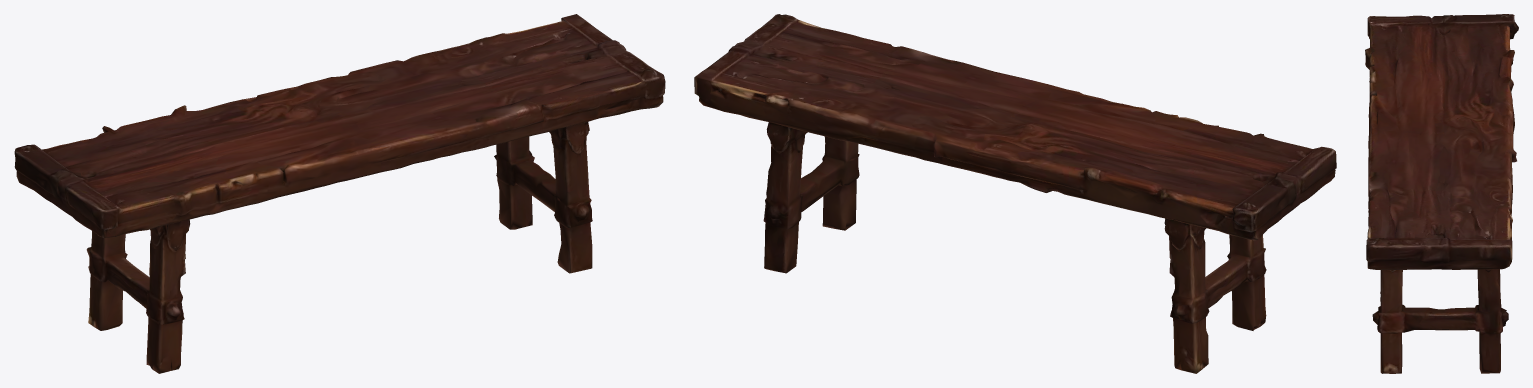
Rendered from hokora-kyodai.glb.
3 renders of one model, left to right at view 1: azimuth 30°, elevation 25°; view 2: azimuth 150°, elevation 25°; view 3: azimuth 270°, elevation 25°, orthographic. The views are drawn at different scales.
Visible parts, largest first — view 1: tripo_node_06261b38-5592-44d0-81bf-fc2c917a9c1d; view 2: tripo_node_06261b38-5592-44d0-81bf-fc2c917a9c1d; view 3: tripo_node_06261b38-5592-44d0-81bf-fc2c917a9c1d.
Part boxes in pixels (bbox=[...]): tripo_node_06261b38-5592-44d0-81bf-fc2c917a9c1d: bbox=[14, 14, 665, 373]; tripo_node_06261b38-5592-44d0-81bf-fc2c917a9c1d: bbox=[694, 14, 1336, 373]; tripo_node_06261b38-5592-44d0-81bf-fc2c917a9c1d: bbox=[1365, 14, 1518, 373].
Bounding box in the file's own units: 1 × 0.3156 × 0.2787.
1 material, 1 textured.
